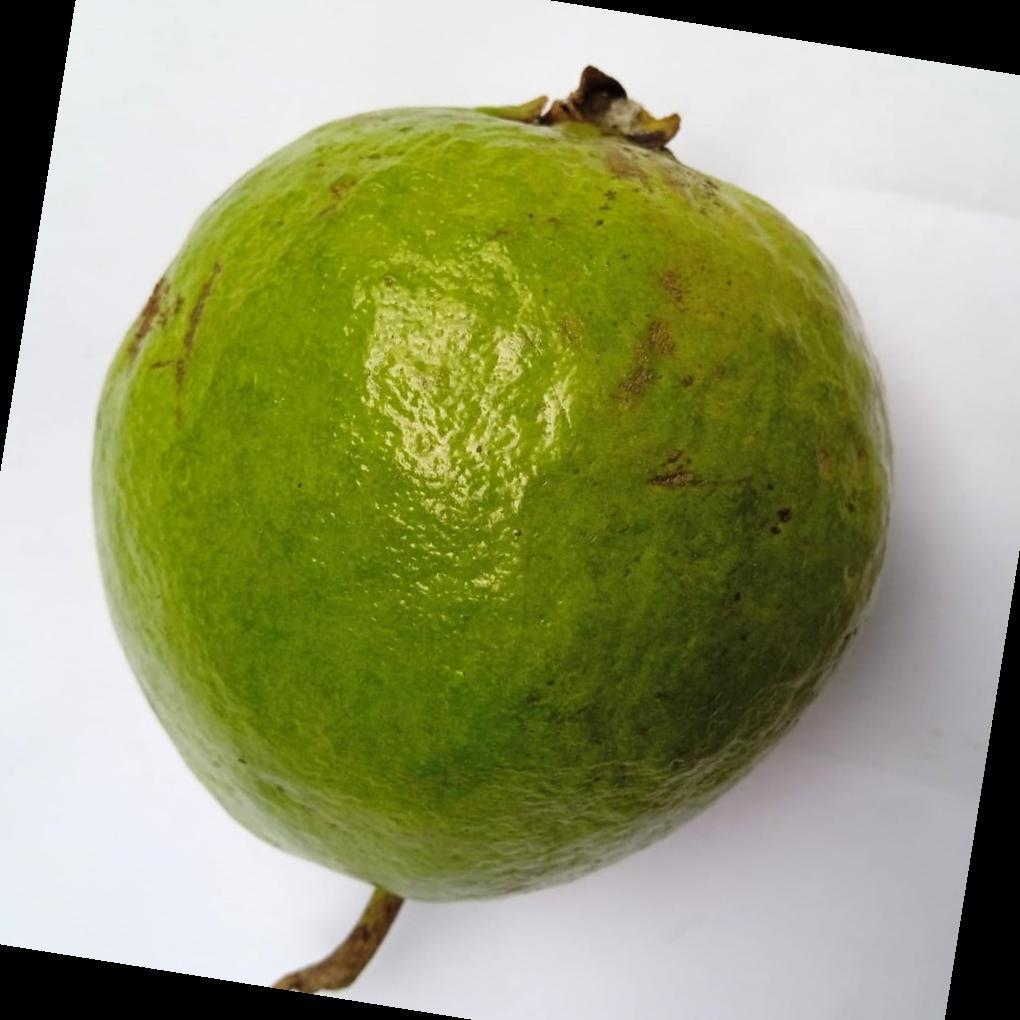FreshGuava: (87, 72, 894, 909)
